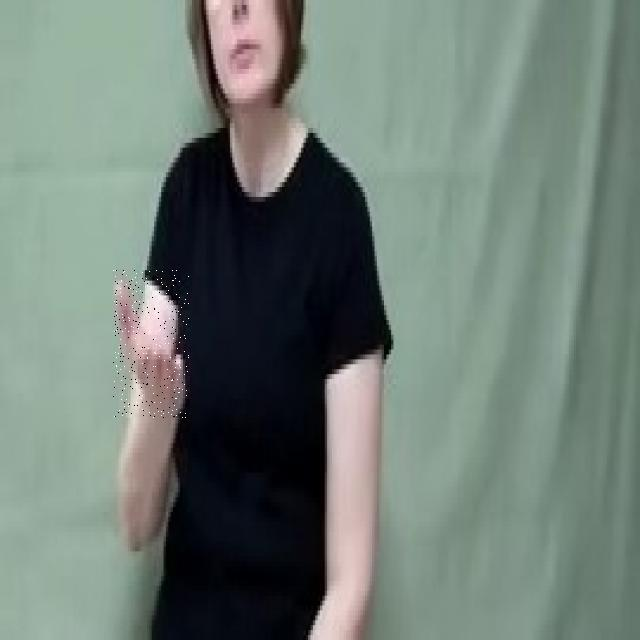thank-you: (114, 270, 190, 418)
